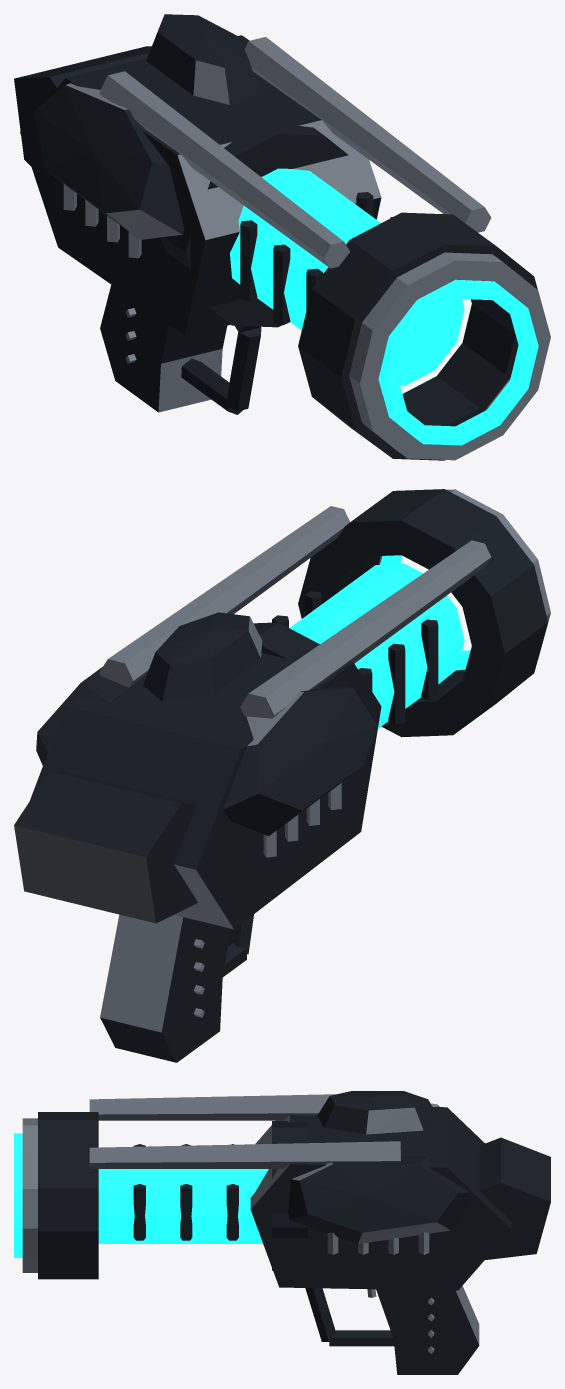
File: PlasmaBlaster_Final.fbx
3 renders of one model, top to bottom at view 1: azimuth 30°, elevation 25°; view 2: azimuth 150°, elevation 25°; view 3: azimuth 270°, elevation 25°, orthographic. The views are drawn at different scales.
Visible parts, largest first — view 1: Receiver_Mesh, Barrel_Mesh, PowerCell_Mesh, Grip_Mesh, Sight_Mesh; view 2: Receiver_Mesh, Barrel_Mesh, Grip_Mesh, PowerCell_Mesh, Sight_Mesh; view 3: Receiver_Mesh, Barrel_Mesh, PowerCell_Mesh, Grip_Mesh, Sight_Mesh.
Boxes of the visible parts, left/top/right/bottom form: Receiver_Mesh: left=14, top=35, right=491, bottom=335; Barrel_Mesh: left=161, top=115, right=550, bottom=460; PowerCell_Mesh: left=230, top=168, right=538, bottom=445; Grip_Mesh: left=100, top=285, right=261, bottom=414; Sight_Mesh: left=146, top=14, right=260, bottom=104; Receiver_Mesh: left=14, top=506, right=491, bottom=929; Barrel_Mesh: left=253, top=489, right=550, bottom=737; Grip_Mesh: left=100, top=914, right=253, bottom=1062; PowerCell_Mesh: left=289, top=555, right=470, bottom=728; Sight_Mesh: left=143, top=612, right=262, bottom=701; Receiver_Mesh: left=89, top=1094, right=550, bottom=1290; Barrel_Mesh: left=22, top=1112, right=307, bottom=1279; PowerCell_Mesh: left=14, top=1133, right=268, bottom=1257; Grip_Mesh: left=305, top=1286, right=479, bottom=1374; Sight_Mesh: left=317, top=1091, right=439, bottom=1134.
Bounding box in the file's own units: 0.2145 × 0.3 × 0.5459.
